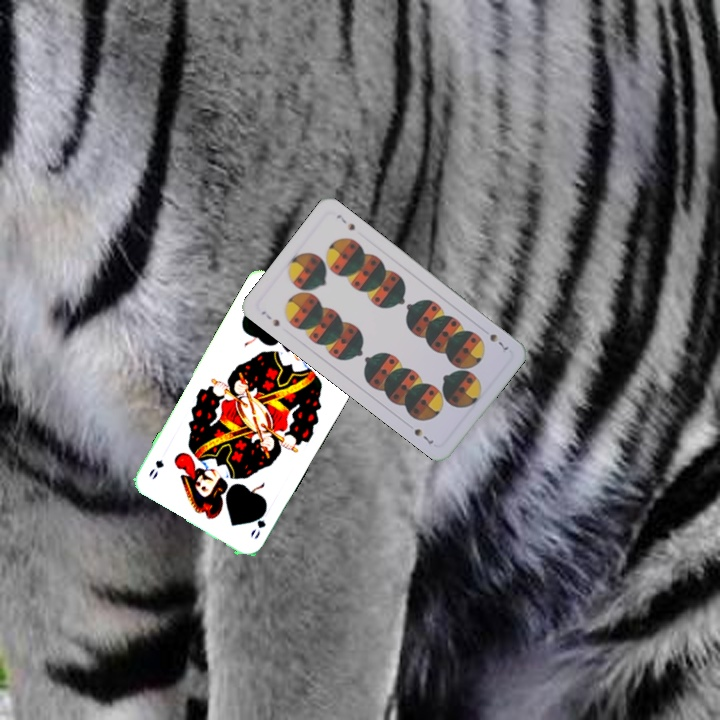GO: (246, 506, 269, 542)
S7: (485, 330, 511, 353), (257, 307, 282, 329)
